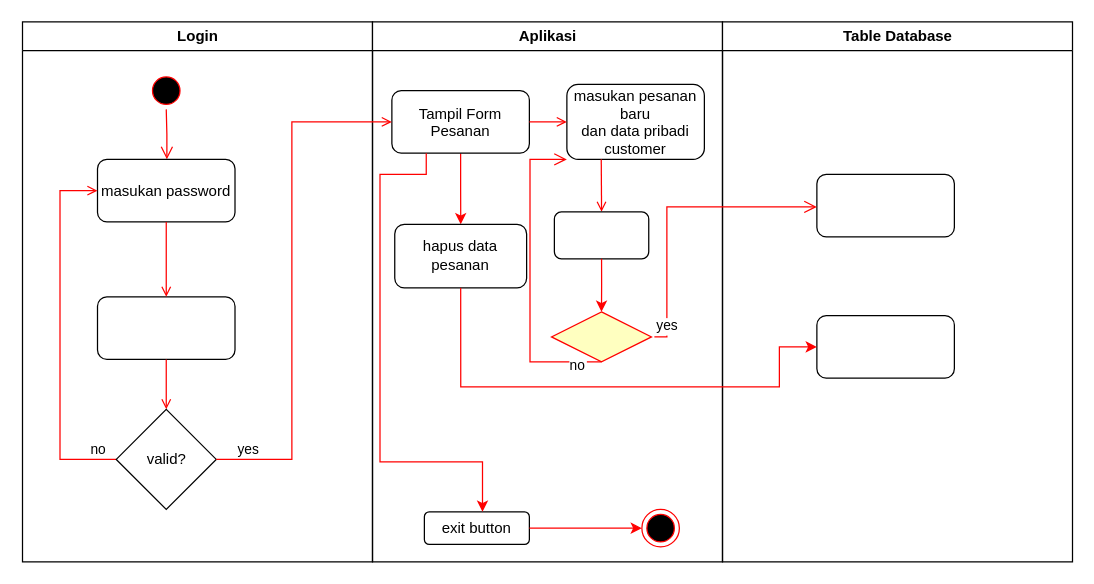
Some shapes in this 1094 by 584 pixel diagram are drawn without their labels. Each missing label, with the centre of its shape:
"hapus data dari database" belongs at (x=885, y=346).
"lengkap?" belongs at (x=601, y=336).
"simpan" belongs at (x=601, y=235).
"simpan data ke database" belongs at (x=885, y=205).
"validasi" belongs at (x=165, y=327).
